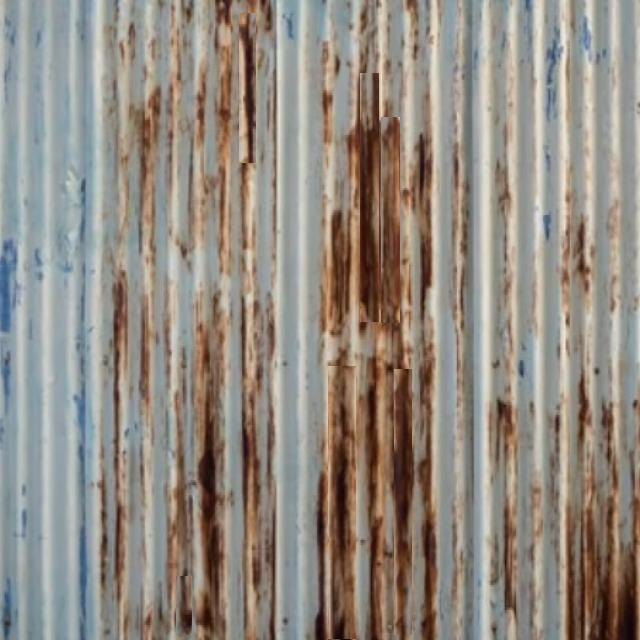Corrosion: (356, 366, 412, 640), (569, 460, 640, 640), (356, 98, 403, 324), (406, 350, 440, 640), (179, 440, 224, 640), (326, 366, 356, 640), (384, 369, 414, 640), (402, 130, 433, 344), (326, 210, 352, 334), (238, 12, 256, 162), (199, 328, 215, 378), (176, 583, 189, 640)
